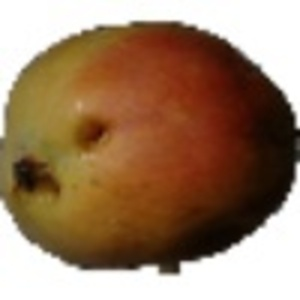mamão: (3, 16, 295, 264)
